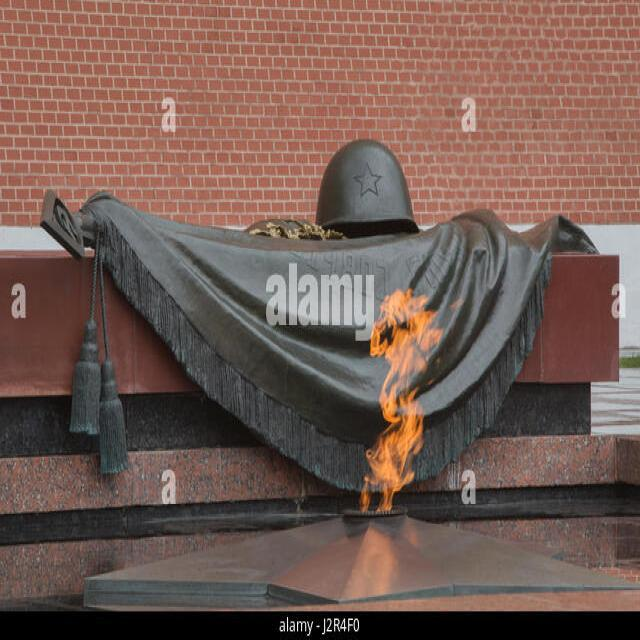Fire: (353, 282, 453, 526)
